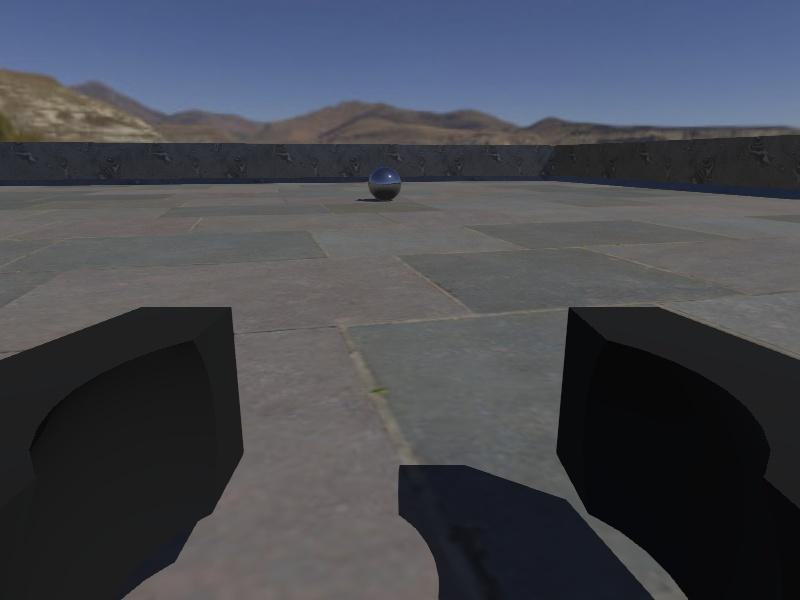steel ball: (368, 166, 403, 203)
